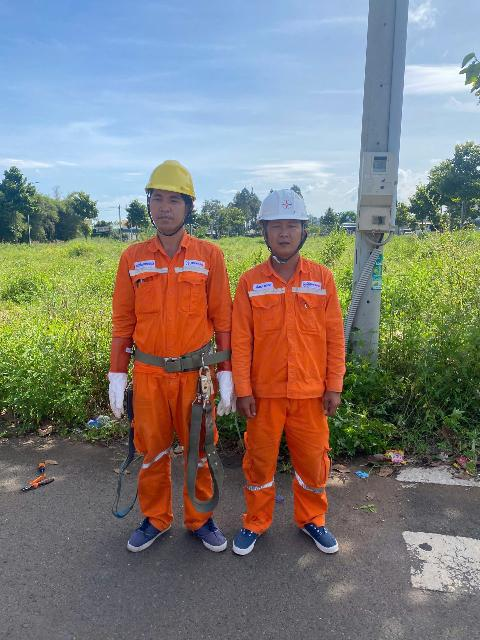gloves: (100, 368, 133, 421), (213, 371, 238, 425)
harness: (124, 336, 235, 379)
helmet: (143, 158, 208, 212), (253, 182, 317, 224)
shoes: (289, 513, 345, 558), (178, 512, 229, 558), (223, 511, 265, 561), (120, 516, 170, 550)
